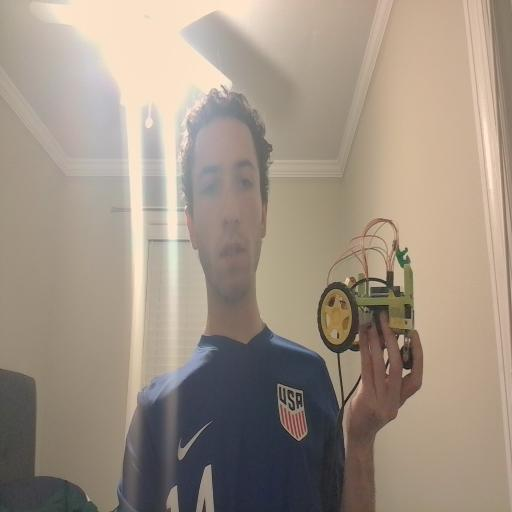green LEGO minifig: (391, 238, 413, 269)
